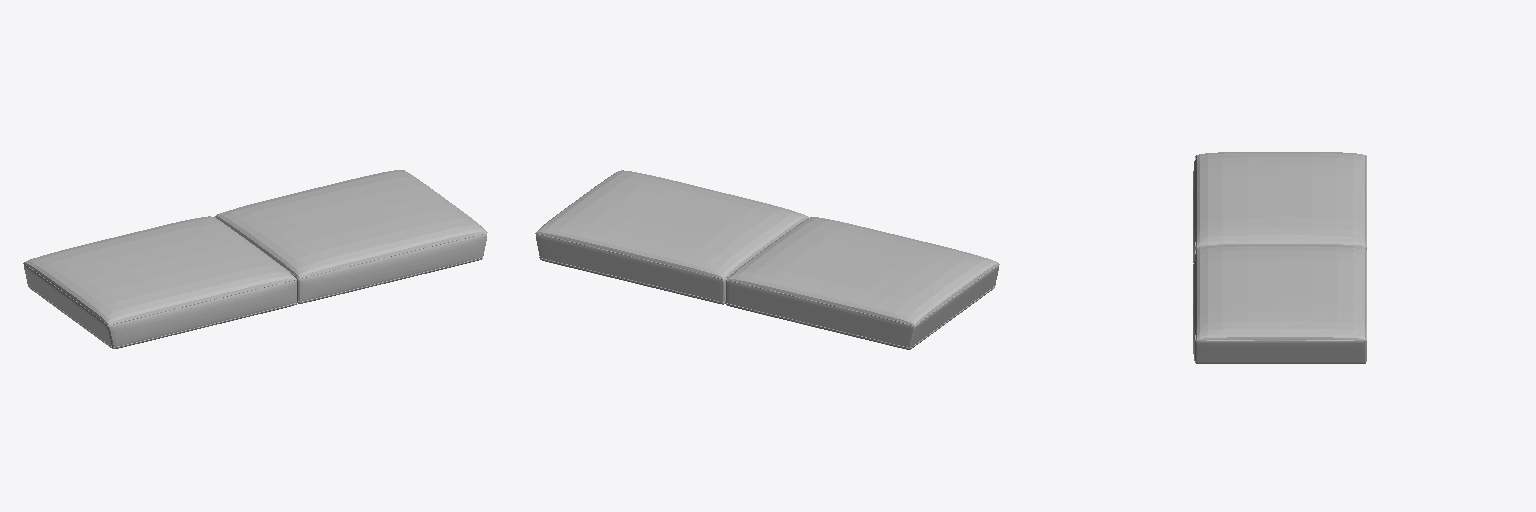
Rendered from ziri.s.obj.
The picture shows the model from 3 angles: view 1: azimuth 30°, elevation 25°; view 2: azimuth 150°, elevation 25°; view 3: azimuth 270°, elevation 25°; orthographic projection.
Parts seen in each view (by area): view 1: ziri; view 2: ziri; view 3: ziri.
Boxes of the visible parts, <box> form: ziri: <box>23,170,487,348</box>; ziri: <box>535,170,999,349</box>; ziri: <box>1193,152,1366,363</box>.
Size of the model in its own units: 56.78 by 5.24 by 22.55.